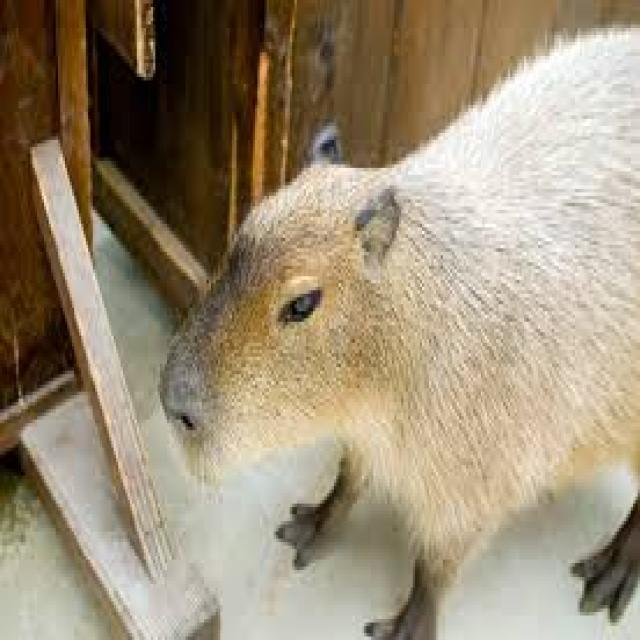capy: (155, 18, 640, 636)
